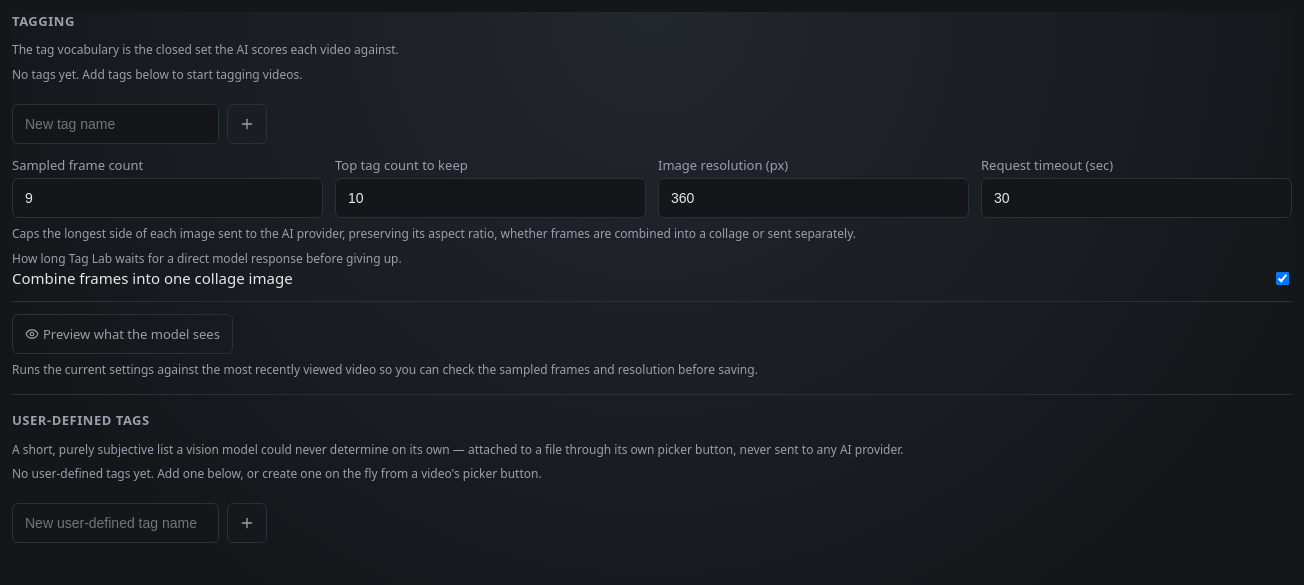
Test: TaggingSettingsSection preview demo › shows an error hint when there is no video available to preview
What coordinates should you click on to do the following:
click the button "Preview what the model sees"
I would click on:
 (122, 334)
Its box is [12, 314, 233, 354].
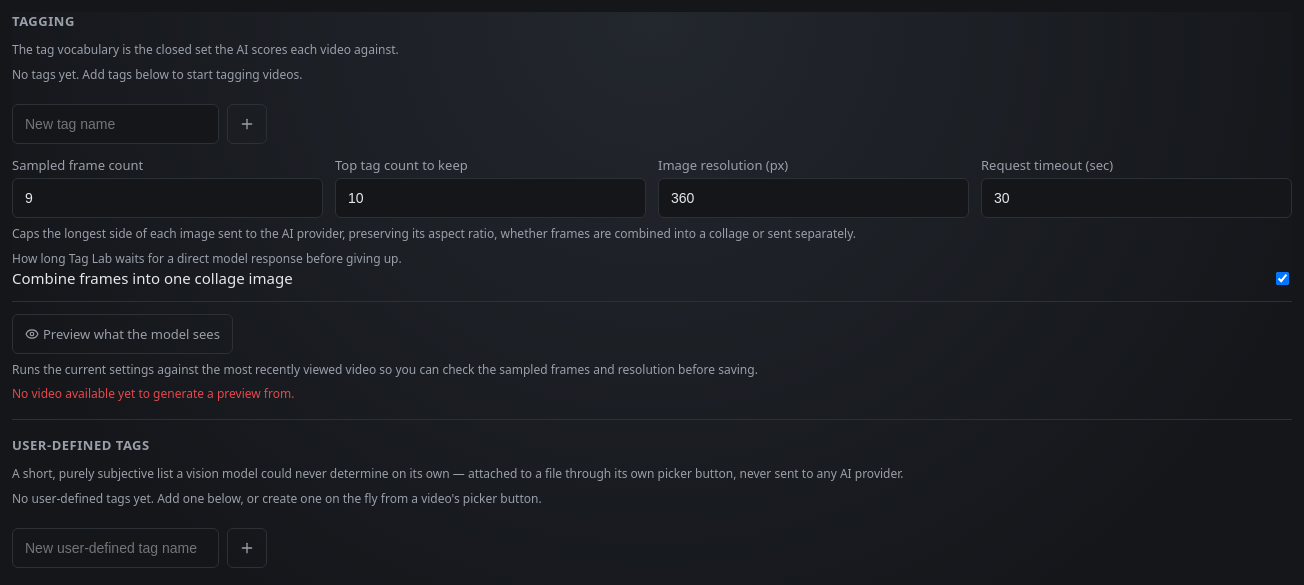
Expected: the text "No video available yet to generate a preview from." is shown, [12, 385, 294, 402]
